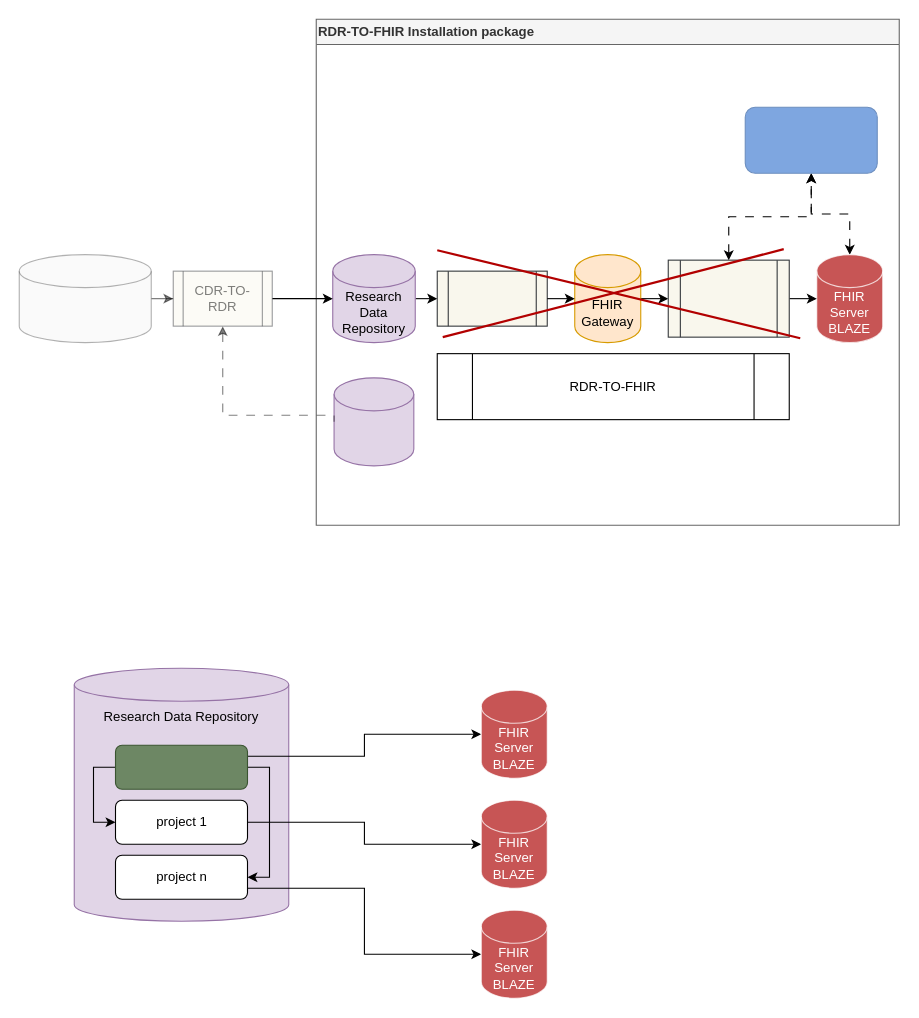
Some shapes in this 919 by 1018 pixel diagram are drawn without their labels. Here are the shapes that lost their labels. From the top down, the centre of each, then its label:
point 810,139: KEYCLOAK (Authorization)
point 84,298: Clinical Data Repository
point 491,298: RDR-to-FHIR GW
point 728,298: ROTATOR (f RO m ga T ew A y TO se R ver)
point 373,421: TRANS-DB
point 181,766: all data
